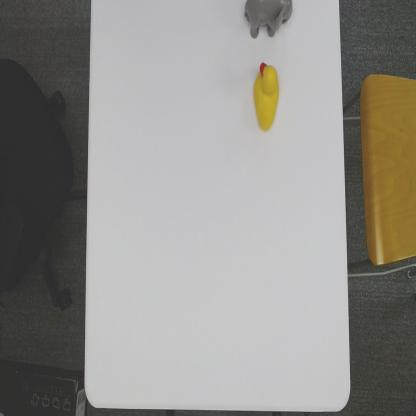Duck: (251, 60, 281, 134)
Elephant: (242, 0, 295, 37)
